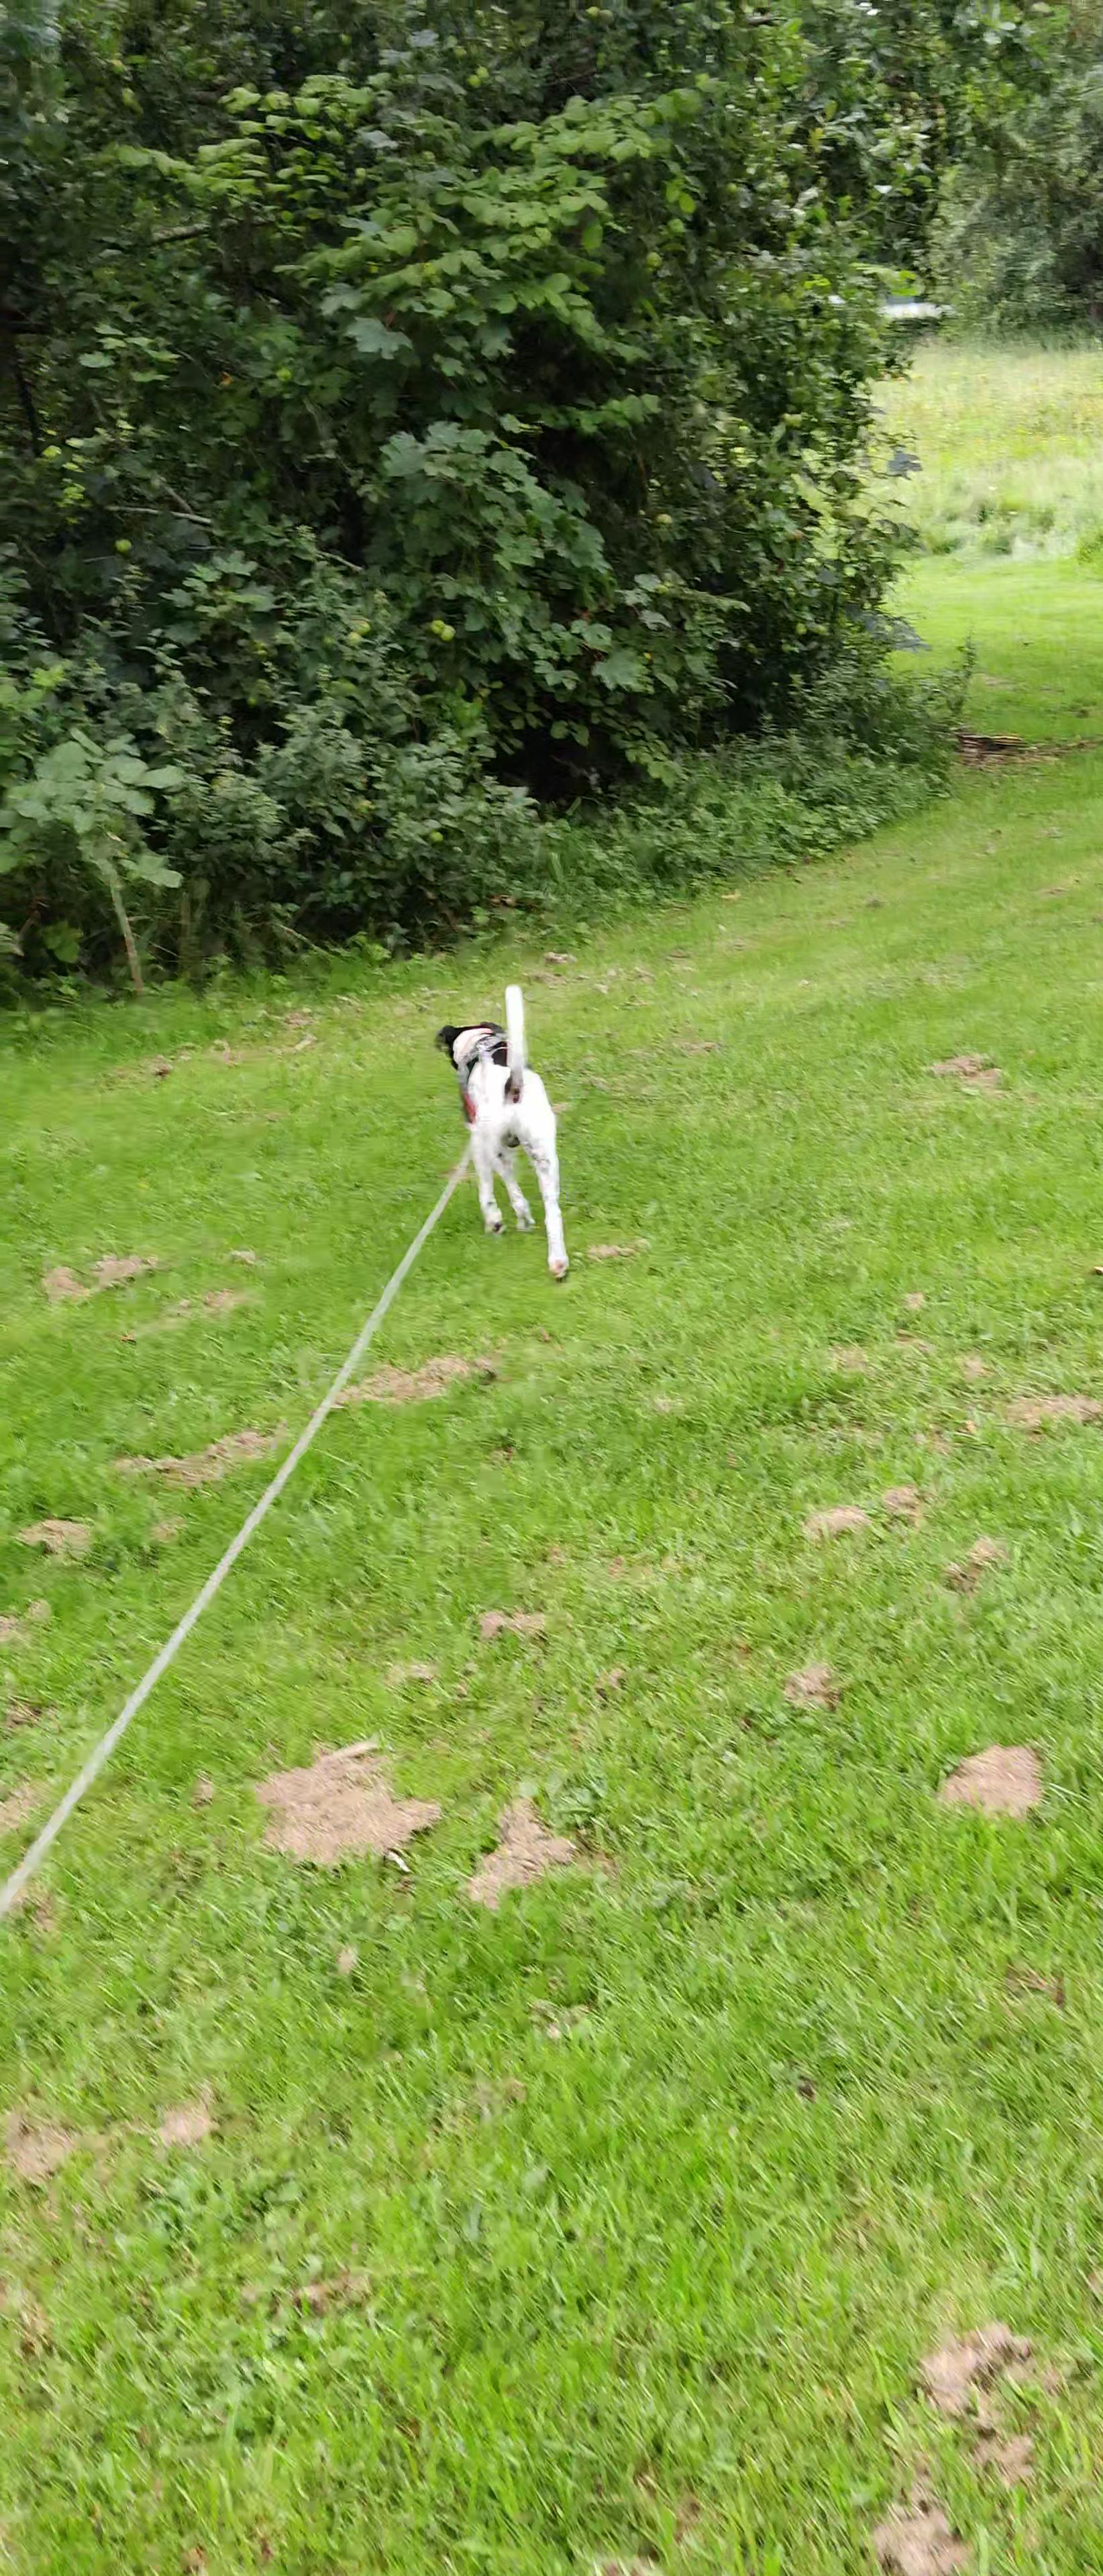Dog: (426, 953, 577, 1290)
